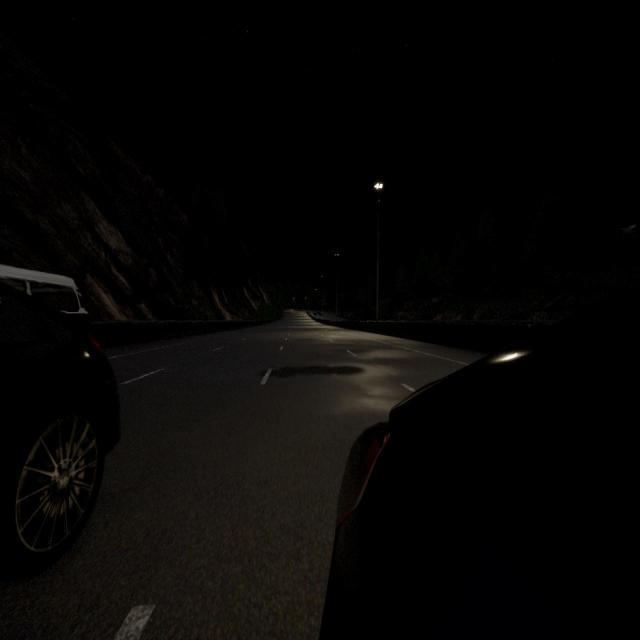Vehicle: (316, 301, 640, 640), (0, 265, 127, 576)
